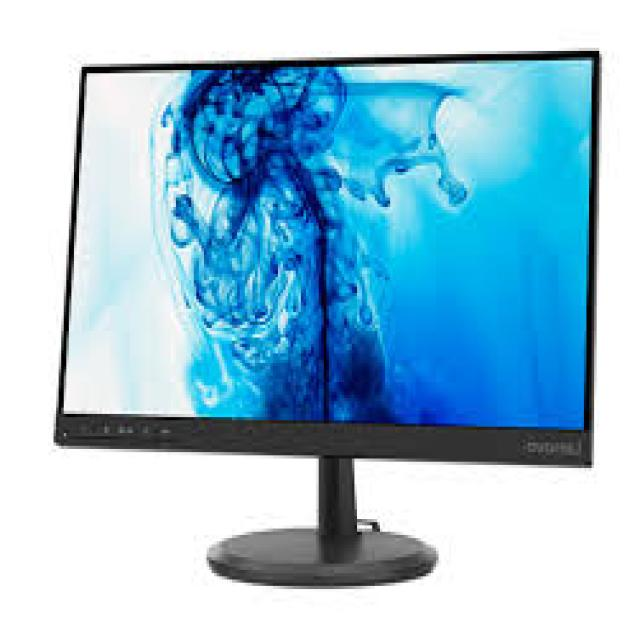monitor: (48, 36, 610, 607)
